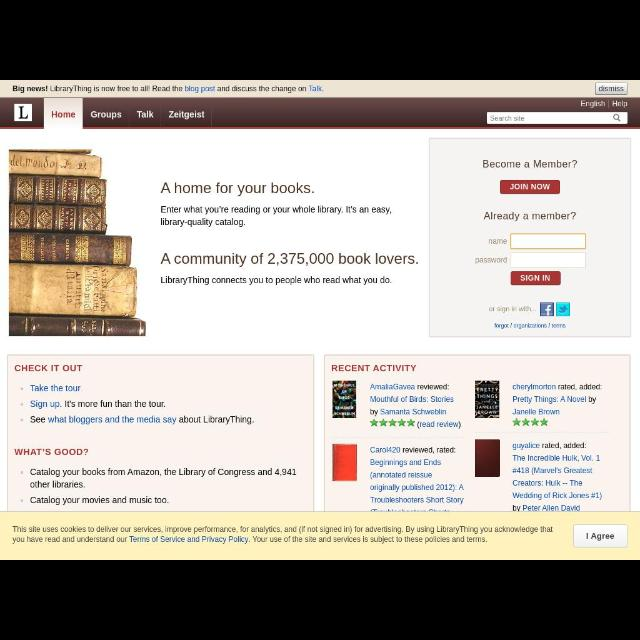icon: (370, 419, 414, 427), (512, 418, 548, 426), (614, 115, 620, 122)
image: (10, 150, 146, 336), (475, 381, 499, 419), (475, 439, 499, 476), (334, 380, 356, 418), (334, 444, 356, 482), (13, 102, 32, 121), (540, 302, 554, 316), (556, 304, 570, 316)
input: (487, 112, 628, 124), (511, 234, 585, 248), (512, 253, 586, 267)
text: (12, 526, 554, 544), (512, 442, 602, 512), (370, 446, 464, 504), (161, 206, 391, 227), (162, 254, 418, 266), (371, 383, 454, 417), (512, 384, 602, 414), (30, 468, 296, 478), (13, 85, 323, 93), (162, 276, 392, 286), (160, 183, 314, 197), (30, 416, 254, 424), (30, 496, 168, 506), (31, 400, 165, 410), (484, 212, 576, 222), (483, 160, 577, 168), (332, 364, 416, 372), (14, 448, 88, 456), (14, 364, 82, 372), (31, 480, 85, 488), (31, 384, 81, 392), (489, 306, 535, 314), (169, 110, 205, 120), (418, 421, 460, 429), (90, 110, 122, 120), (510, 182, 550, 190), (475, 256, 507, 264), (520, 274, 550, 282), (491, 115, 524, 121), (52, 110, 76, 118), (581, 100, 605, 108), (600, 85, 624, 92), (136, 111, 154, 119), (612, 100, 628, 108), (514, 324, 546, 328), (495, 323, 509, 329), (489, 240, 507, 244), (552, 324, 566, 328)
textbutton: (574, 524, 628, 548), (500, 180, 560, 193), (511, 272, 561, 284), (596, 83, 628, 95)
toolbar: (1, 98, 640, 128)
